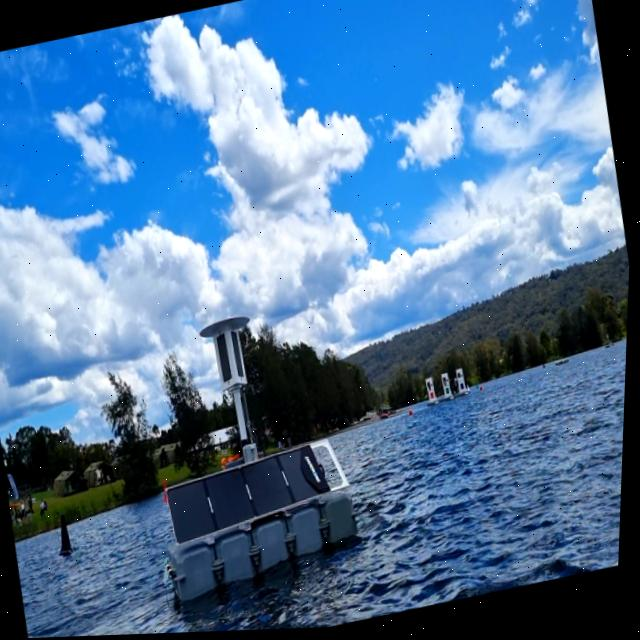led: (215, 334, 239, 387)
